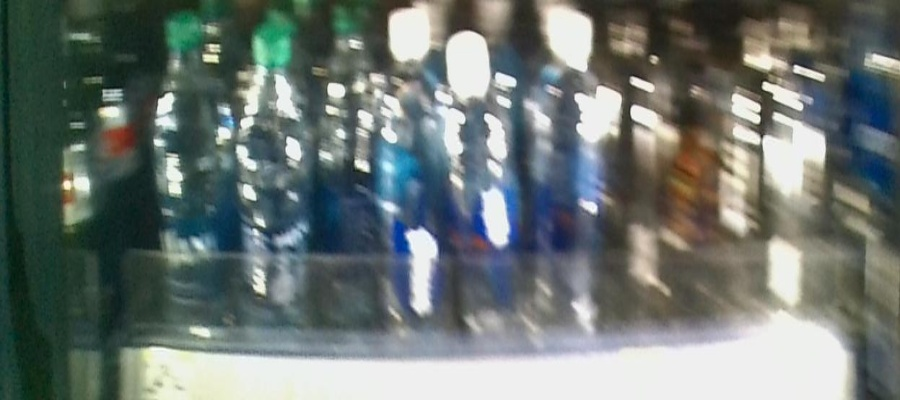bottle: (368, 6, 444, 351), (532, 17, 607, 348), (147, 15, 220, 318), (446, 20, 512, 352), (237, 26, 307, 324)
